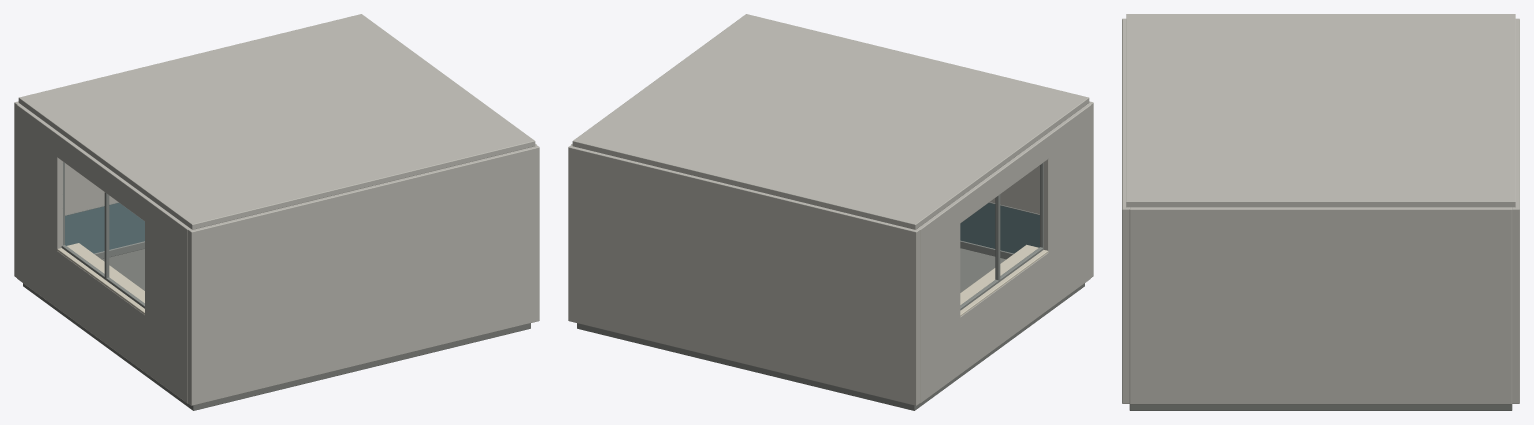
Rendered from room-shell.glb.
The picture shows the model from 3 angles, left to right: view 1: azimuth 30°, elevation 25°; view 2: azimuth 150°, elevation 25°; view 3: azimuth 270°, elevation 25°; orthographic projection. The views are drawn at different scales.
Parts seen in each view (by area): view 1: room_plaster, room_floor, room_paint, room_trim, room_cream; view 2: room_plaster, room_floor, room_paint, room_trim, room_cream; view 3: room_plaster, room_floor.
Part boxes in pixels (box(x1,y1,x2,y2)): room_plaster: box(14, 14, 539, 405); room_floor: box(23, 249, 530, 410); room_paint: box(65, 203, 144, 253); room_trim: box(61, 162, 144, 308); room_cream: box(57, 243, 144, 314); room_plaster: box(568, 14, 1093, 405); room_floor: box(577, 248, 1084, 410); room_paint: box(960, 203, 1039, 253); room_trim: box(960, 163, 1043, 310); room_cream: box(960, 244, 1048, 316); room_plaster: box(1122, 14, 1519, 404); room_floor: box(1129, 404, 1512, 410).
Bounding box in the file's own units: 6.62 × 3.41 × 5.82.
